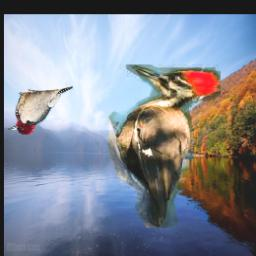Woodpecker: (104, 64, 221, 228), (8, 87, 74, 136)
